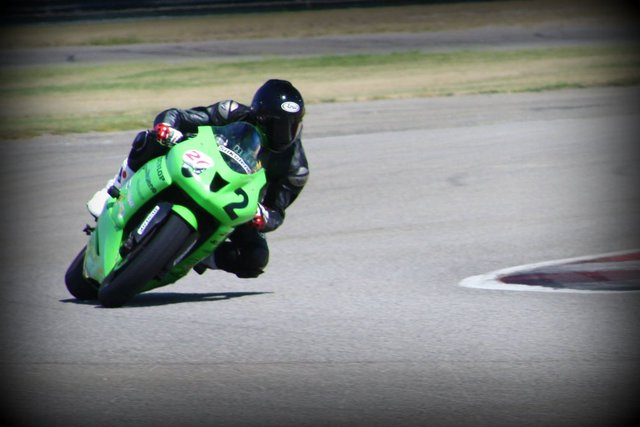helmet: (248, 80, 309, 146)
